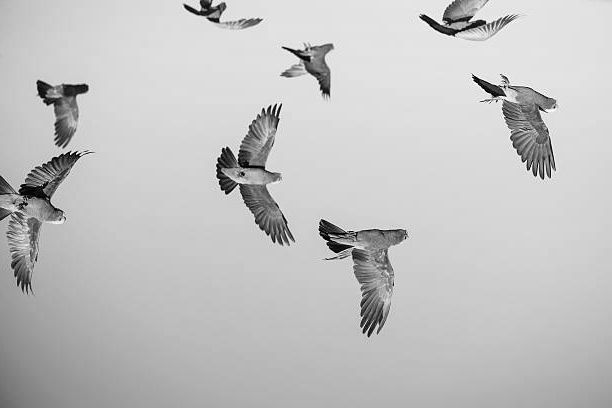Bird: (1, 149, 92, 299), (210, 99, 298, 246), (317, 218, 409, 338), (470, 70, 559, 180), (416, 0, 526, 43), (35, 75, 89, 149), (279, 40, 336, 104), (181, 0, 264, 33)
